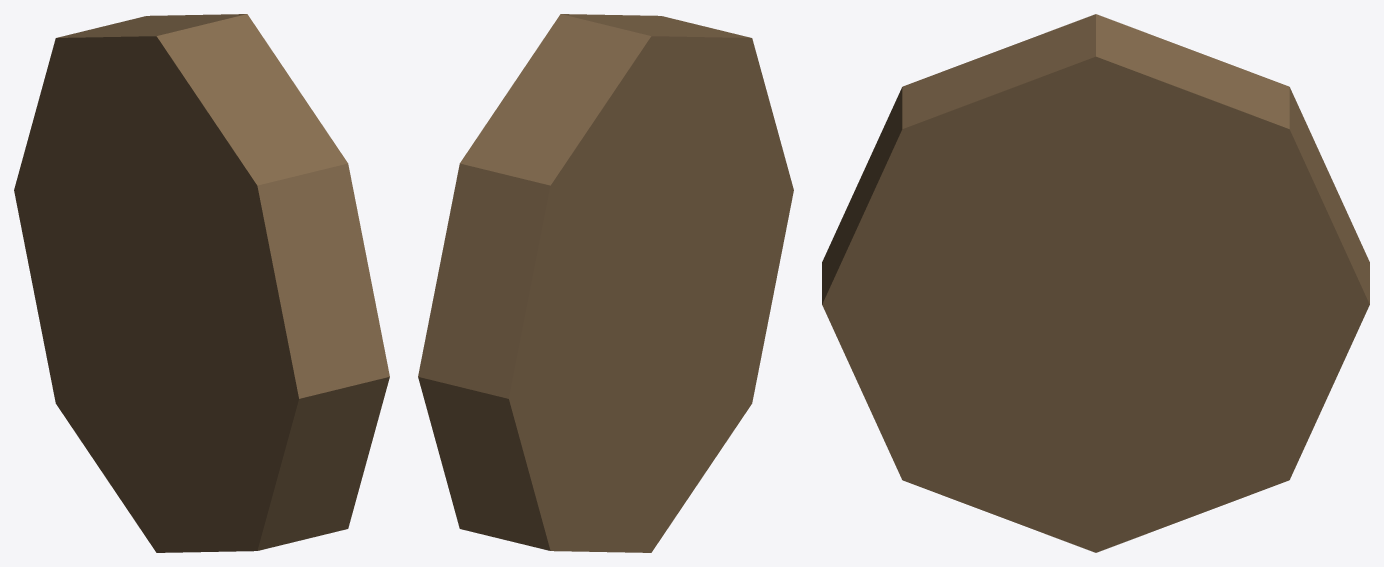
Rendered from SM_Prop_Pipe_02_Cap_01.fbx.
3 renders of one model, left to right at view 1: azimuth 30°, elevation 25°; view 2: azimuth 150°, elevation 25°; view 3: azimuth 270°, elevation 25°, orthographic. The views are drawn at different scales.
Visible parts, largest first — view 1: SM_Prop_Pipe_02_Cap_01; view 2: SM_Prop_Pipe_02_Cap_01; view 3: SM_Prop_Pipe_02_Cap_01.
Part boxes in pixels (x1,y1,x2,y2): SM_Prop_Pipe_02_Cap_01: (14, 14, 389, 552); SM_Prop_Pipe_02_Cap_01: (418, 14, 793, 552); SM_Prop_Pipe_02_Cap_01: (822, 14, 1369, 552).
Size of the model in its own units: 3.49 by 18.95 by 18.95.
